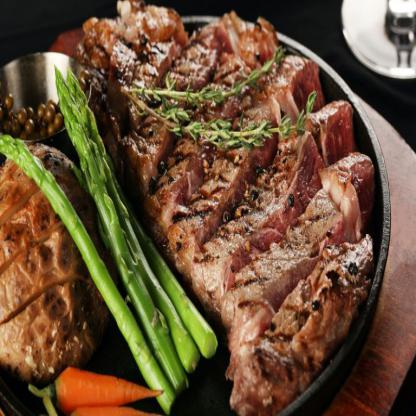Carne: (193, 102, 360, 310), (160, 57, 305, 257), (222, 235, 373, 415), (132, 22, 262, 183), (240, 160, 364, 324), (80, 0, 196, 99)
